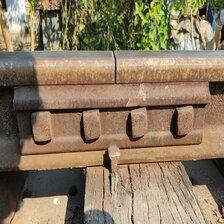railway-gap: (95, 45, 137, 91)
